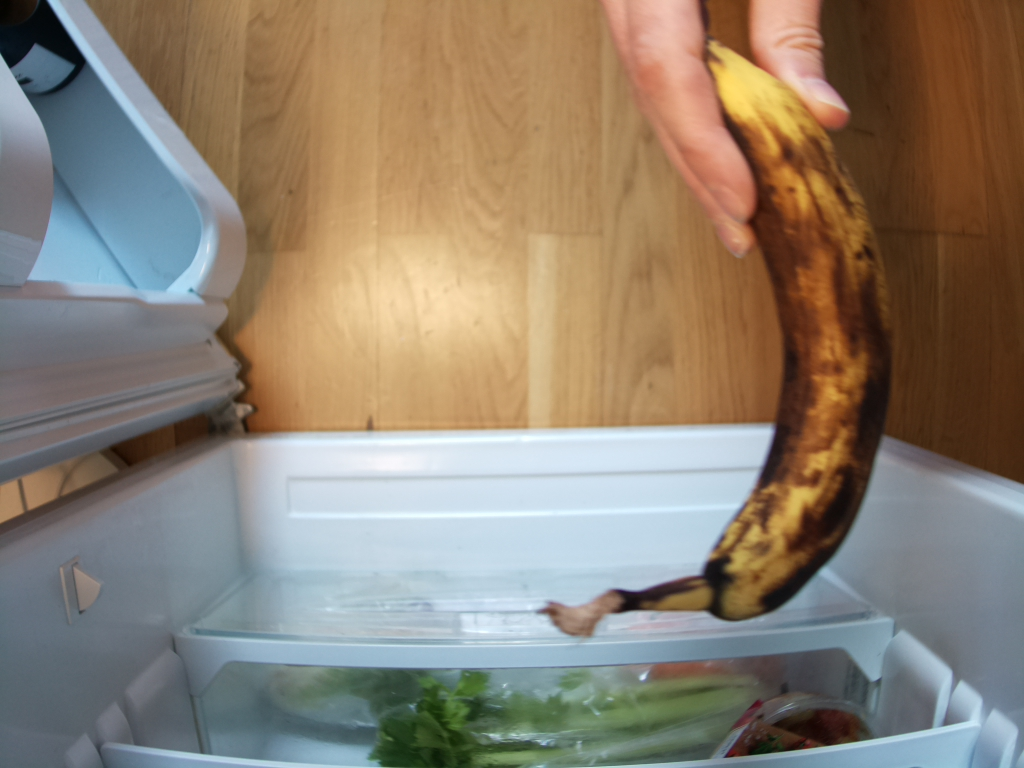banana-overripe: (547, 45, 901, 635)
